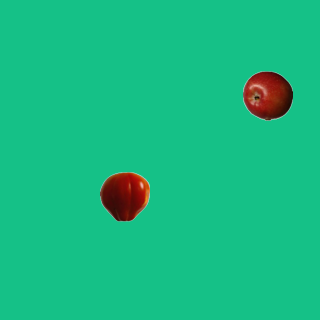Apple Braeburn: (242, 70, 292, 120)
Tomato 1: (99, 171, 149, 221)
